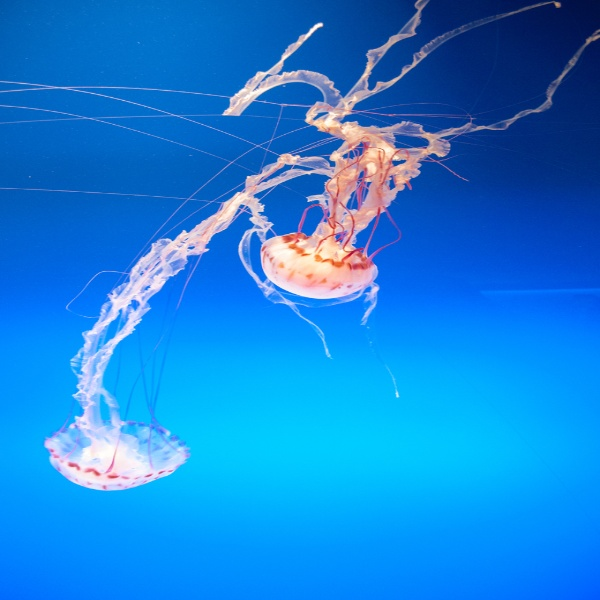Jellyfish: (35, 149, 347, 490), (251, 210, 385, 306)
